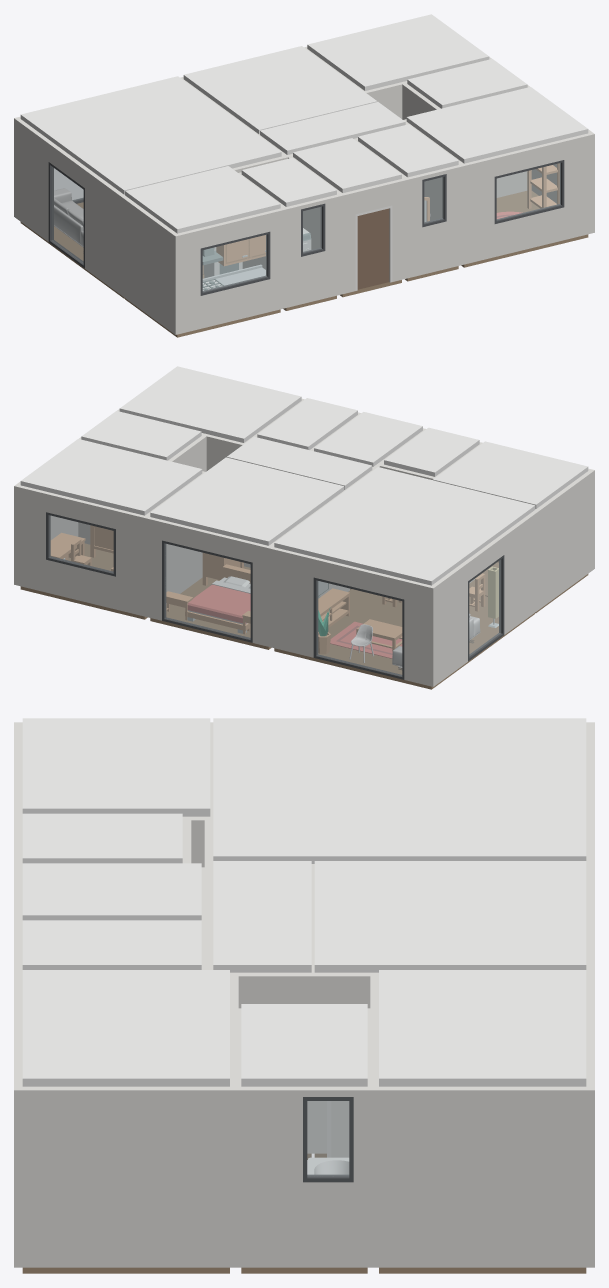
The model's file is room.glb.
3 views of the same model, one above another, from view 1: azimuth 30°, elevation 25°; view 2: azimuth 150°, elevation 25°; view 3: azimuth 270°, elevation 25° (orthographic). The views are drawn at different scales.
Visible parts, largest first — view 1: ceiling_salon, wall_pokoj-poludnie_0, ceiling_pokoj-srodek, wall_salon_3, wall_kuchnia_0, ceiling_pokoj-poludnie, ceiling_pokoj-polnoc, ceiling_kuchnia, wall_kuchnia_3, wall_kotlownia_0, wall_lazienka-mala_0, wall_wiatrolap_0 (+24 smaller); view 2: ceiling_salon, wall_pokoj-polnoc_2, wall_salon_2, ceiling_pokoj-srodek, wall_salon_3, ceiling_pokoj-polnoc, ceiling_pokoj-poludnie, glass_pokoj-srodek_glass_4, glass_salon_glass_4, ceiling_kuchnia, wall_pokoj-srodek_2, wall_kuchnia_3 (+28 smaller); view 3: ceiling_salon, wall_pokoj-polnoc_1, wall_pokoj-poludnie_1, ceiling_pokoj-srodek, ceiling_pokoj-polnoc, ceiling_pokoj-poludnie, wall_lazienka-duza_1, ceiling_kuchnia, ceiling_korytarz, ceiling_lazienka-duza, ceiling_wiatrolap, ceiling_lazienka-mala (+19 smaller).
Boxes of the visible parts, box(x1,y1,x2,y2) form: ceiling_salon: box(20, 76, 281, 194); wall_pokoj-poludnie_0: box(462, 133, 594, 264); ceiling_pokoj-srodek: box(183, 46, 377, 134); wall_salon_3: box(14, 118, 123, 295); wall_kuchnia_0: box(175, 208, 287, 334); ceiling_pokoj-poludnie: box(406, 87, 588, 163); ceiling_pokoj-polnoc: box(307, 14, 489, 90); ceiling_kuchnia: box(125, 166, 280, 233); wall_kuchnia_3: box(118, 195, 176, 334); wall_kotlownia_0: box(284, 194, 343, 307); wall_lazienka-mala_0: box(406, 165, 465, 277); wall_wiatrolap_0: box(341, 179, 408, 294); ceiling_salon: box(274, 467, 535, 585); wall_pokoj-polnoc_2: box(14, 485, 146, 616); wall_salon_2: box(267, 547, 433, 686); ceiling_pokoj-srodek: box(150, 457, 344, 545); wall_salon_3: box(432, 509, 541, 686); ceiling_pokoj-polnoc: box(20, 439, 202, 515); ceiling_pokoj-poludnie: box(119, 366, 301, 442); glass_pokoj-srodek_glass_4: box(165, 544, 250, 638); glass_salon_glass_4: box(317, 581, 401, 675); ceiling_kuchnia: box(433, 441, 588, 508); wall_pokoj-srodek_2: box(143, 517, 270, 646); wall_kuchnia_3: box(536, 470, 594, 607); ceiling_salon: box(213, 718, 586, 863); wall_pokoj-polnoc_1: box(370, 1086, 594, 1267); wall_pokoj-poludnie_1: box(14, 1086, 238, 1267); ceiling_pokoj-srodek: box(314, 861, 586, 972); ceiling_pokoj-polnoc: box(379, 970, 586, 1086); ceiling_pokoj-poludnie: box(22, 970, 229, 1086); wall_lazienka-duza_1: box(232, 1086, 376, 1267); ceiling_kuchnia: box(22, 718, 210, 816); ceiling_korytarz: box(213, 861, 311, 972); ceiling_lazienka-duza: box(241, 1004, 367, 1086); ceiling_wiatrolap: box(22, 863, 201, 920); ceiling_lazienka-mala: box(22, 920, 201, 969).
Bounding box in the file's own units: 12.02 × 2.97 × 8.02.
